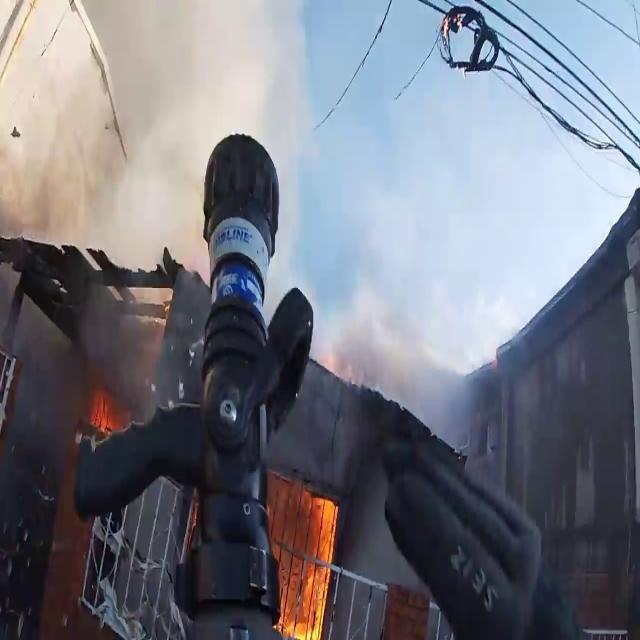Fire: (272, 480, 340, 638), (85, 381, 128, 444)
Smoke: (0, 0, 316, 251)
